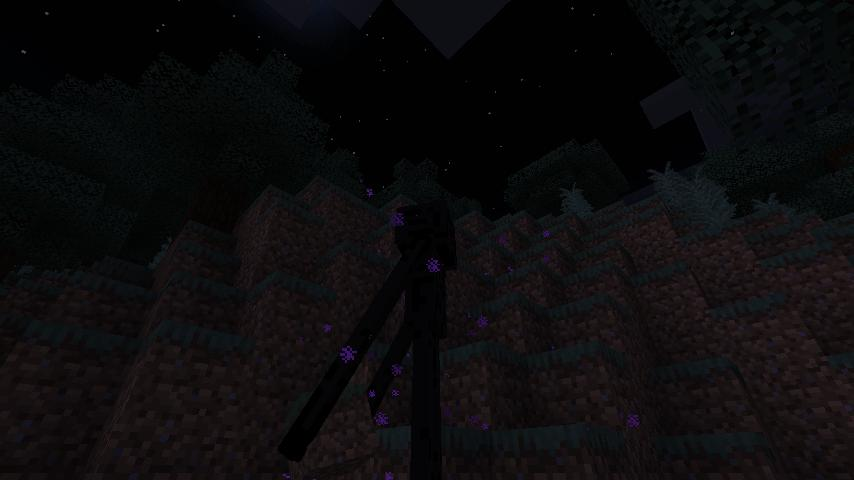enderman: (285, 197, 462, 480)
